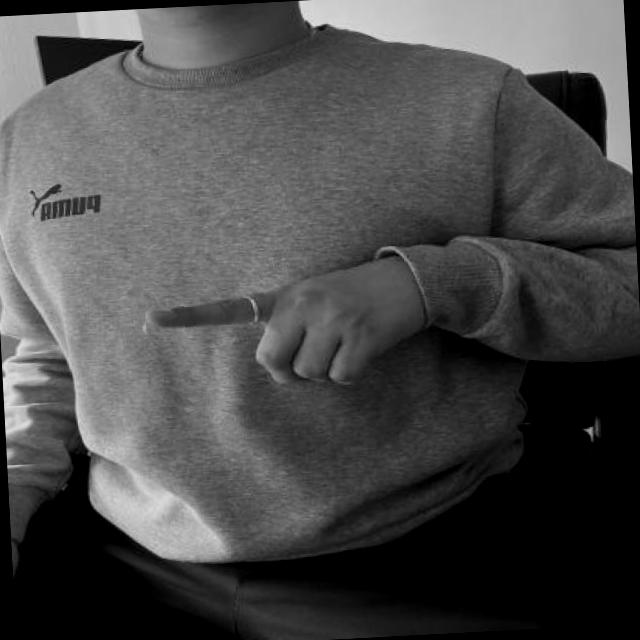S: (140, 244, 444, 418)
